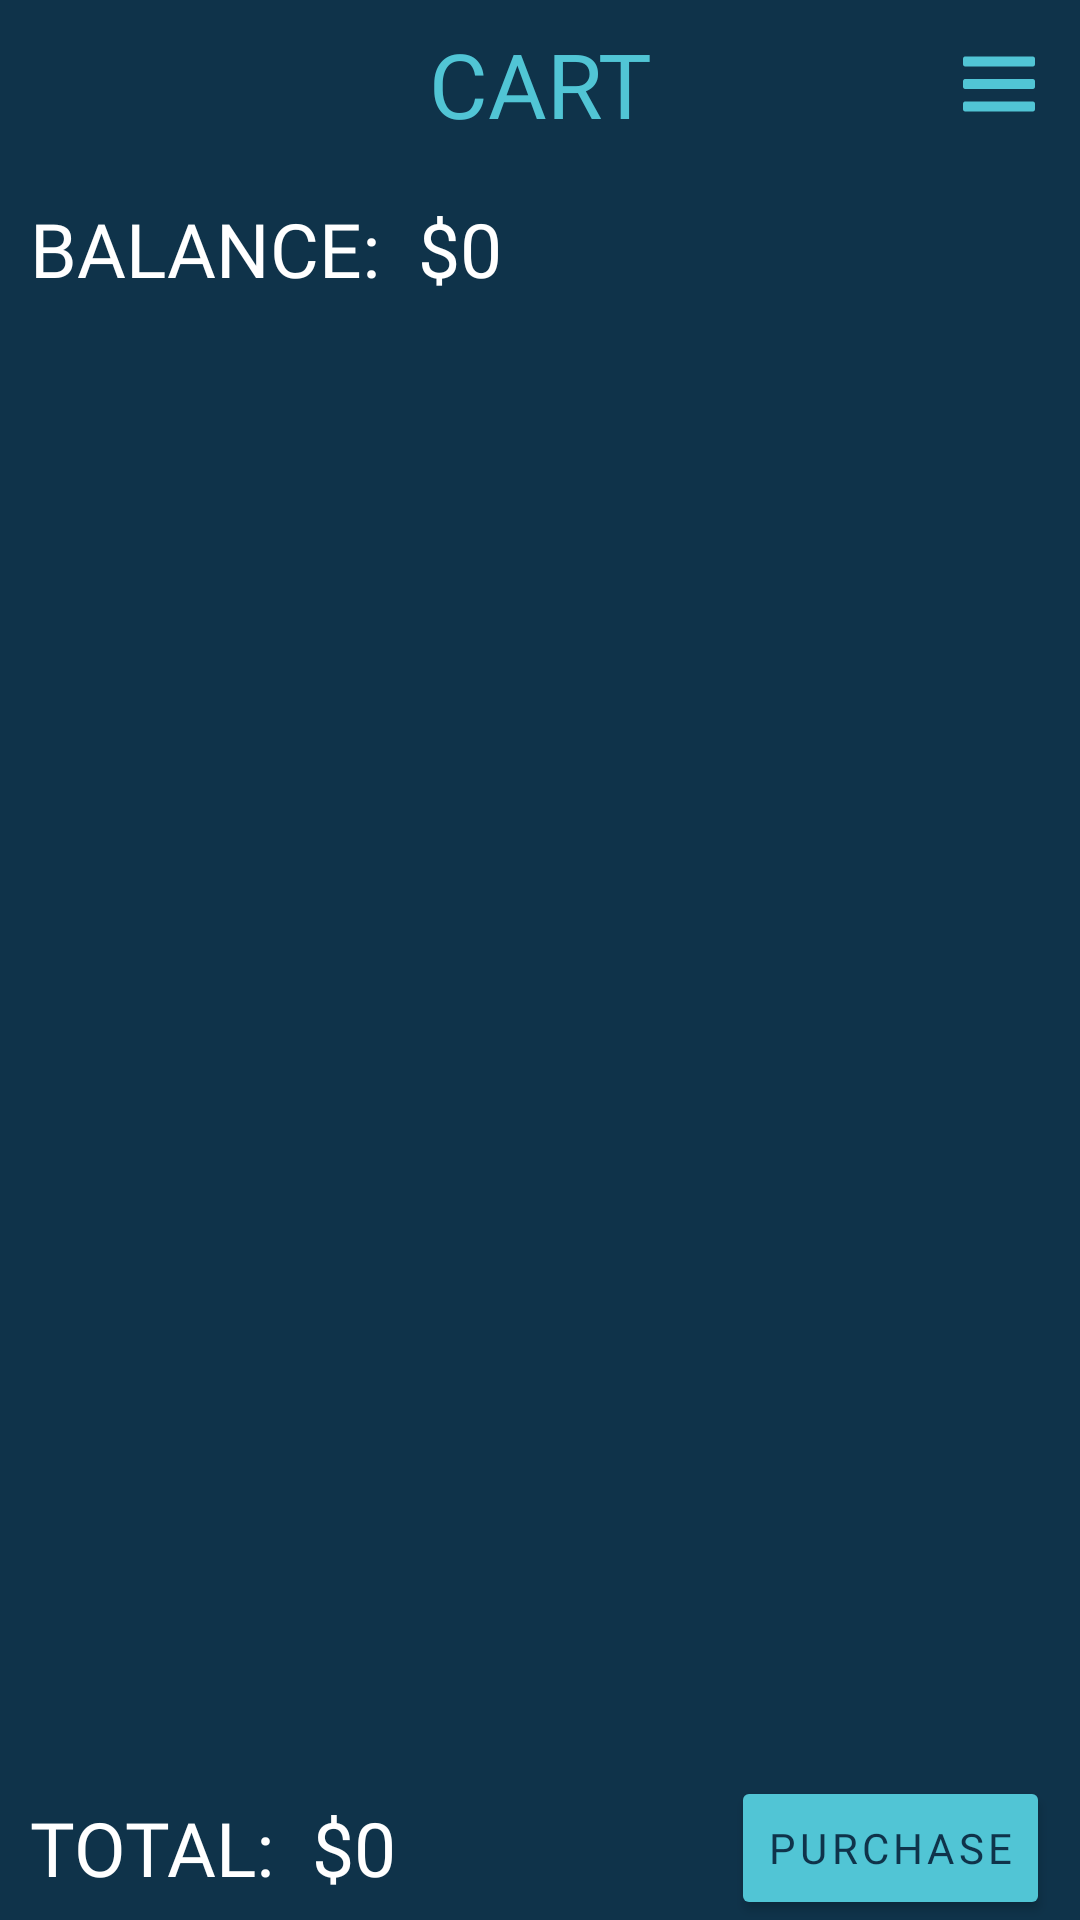

Where to tap for icons on this 1080px x 1920px app screen, as (x=x, y=y):
more: (x=999, y=84)
